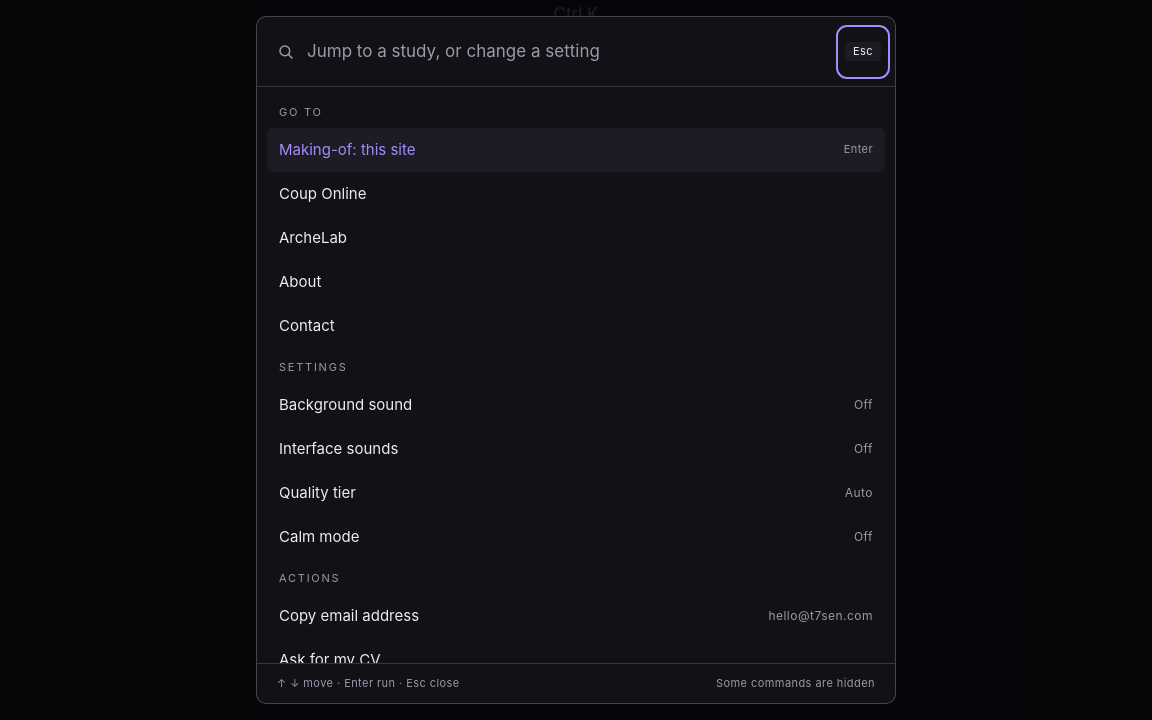
it: PaletteDialog › REQ-NAV-04 the Esc key cap is a button that closes, and Enter on it never runs the active row
The width and height of the screenshot is (1152, 720).
Press Enter in the button "Esc", box [841,30,885,74]
Expected: the dialog is shown, [256,16,896,704]
Click the button "Esc": [863, 52] box [841,30,885,74]
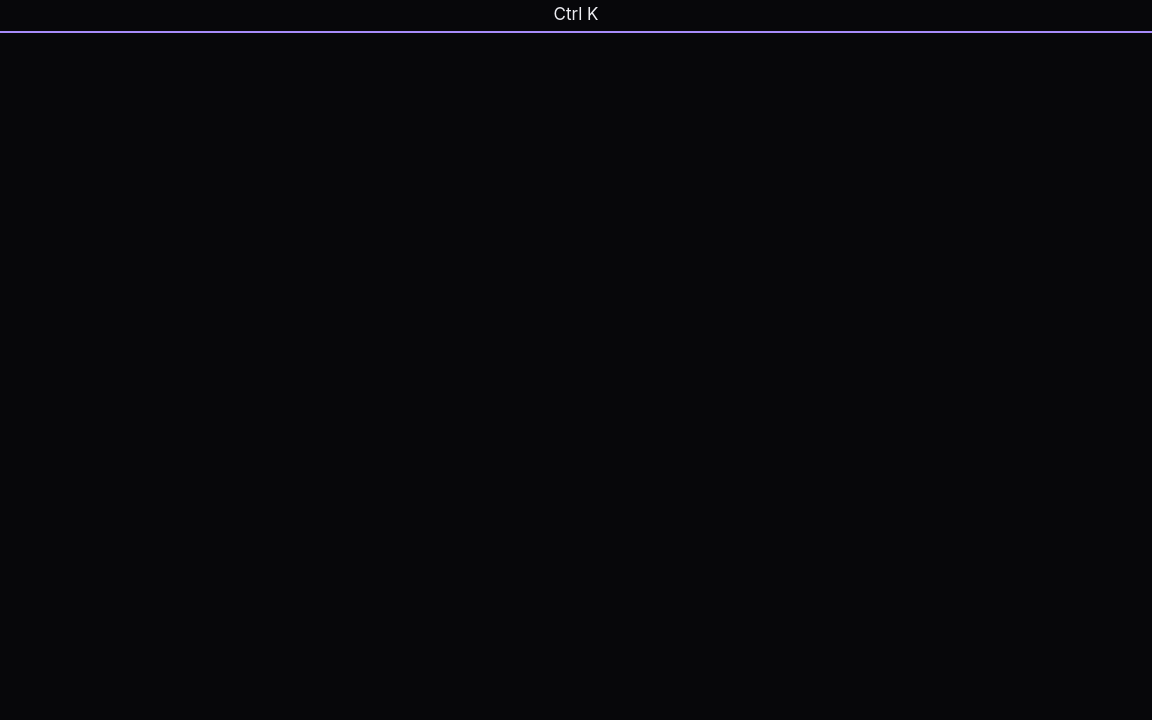
Now the dialog is gone
